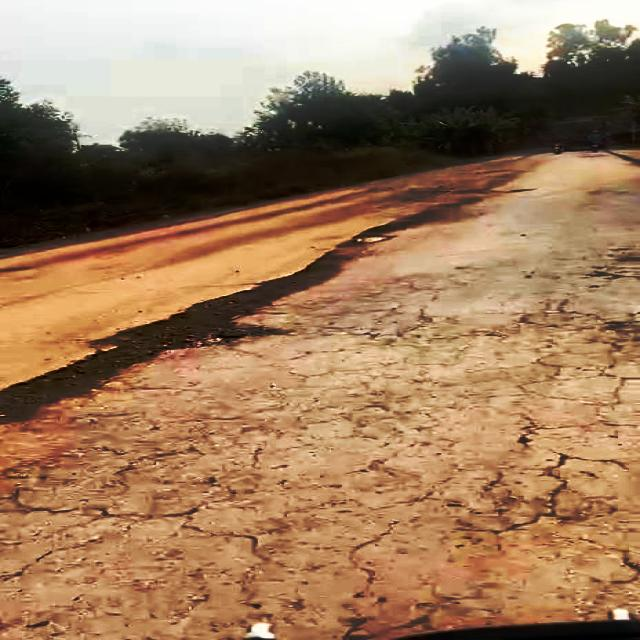pothole: (0, 331, 171, 422), (170, 268, 320, 343)
